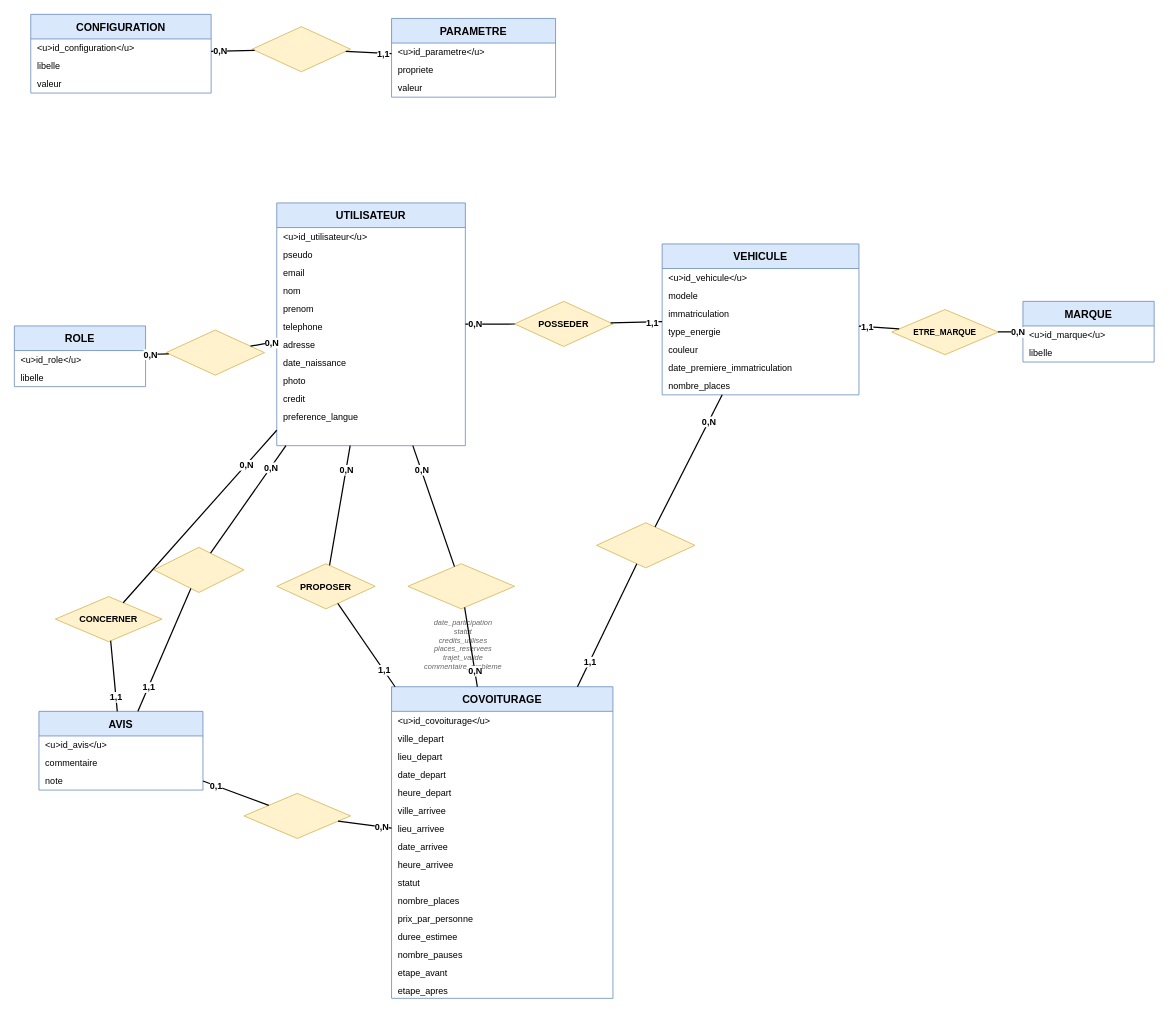
Image size: 1169x1014. Some labels were removed from this diagram. Here are the shapes that lost their labels. From the top down, the centre of each, then its label:
At point 301,49: "CONTENIR".
At point 214,352: "AVOIR_ROLE".
At point 645,545: "UTILISER".
At point 198,569: "REDIGER".
At point 461,586: "PARTICIPER".
At point 297,815: "PORTER_SUR".
